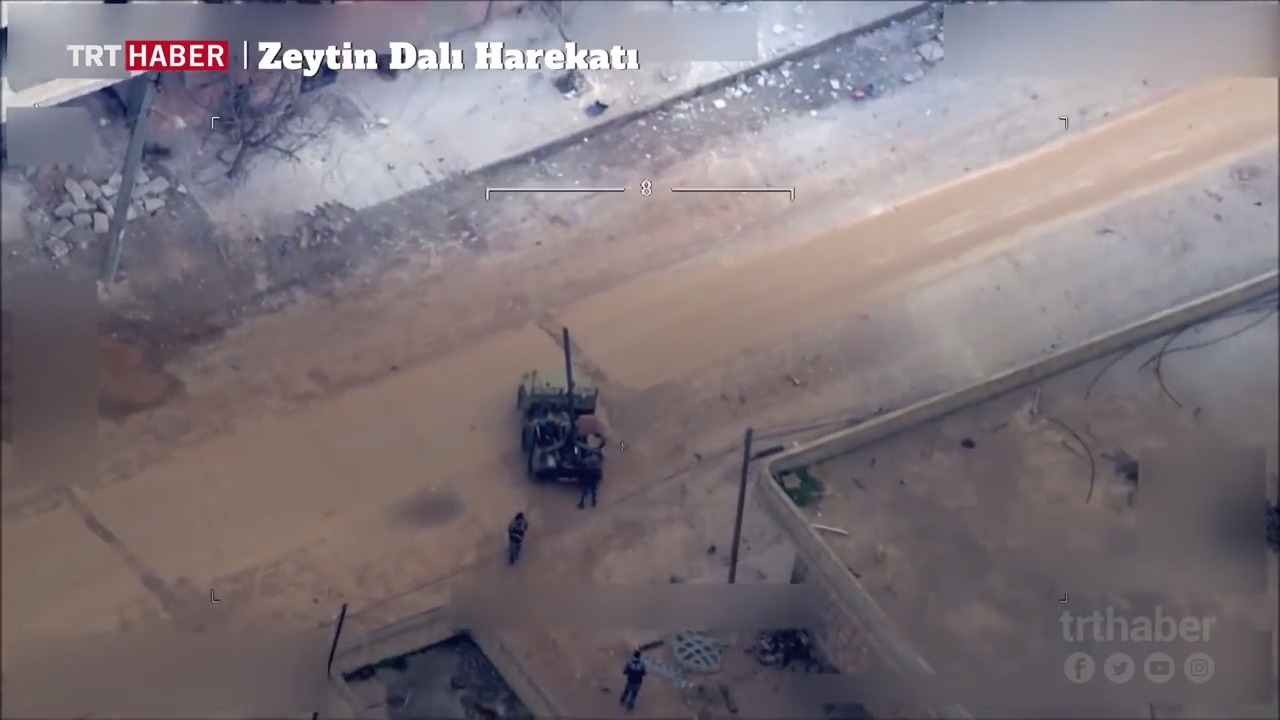arac: (514, 355, 609, 490)
insan: (610, 643, 652, 712), (497, 502, 533, 569), (576, 451, 610, 514)
